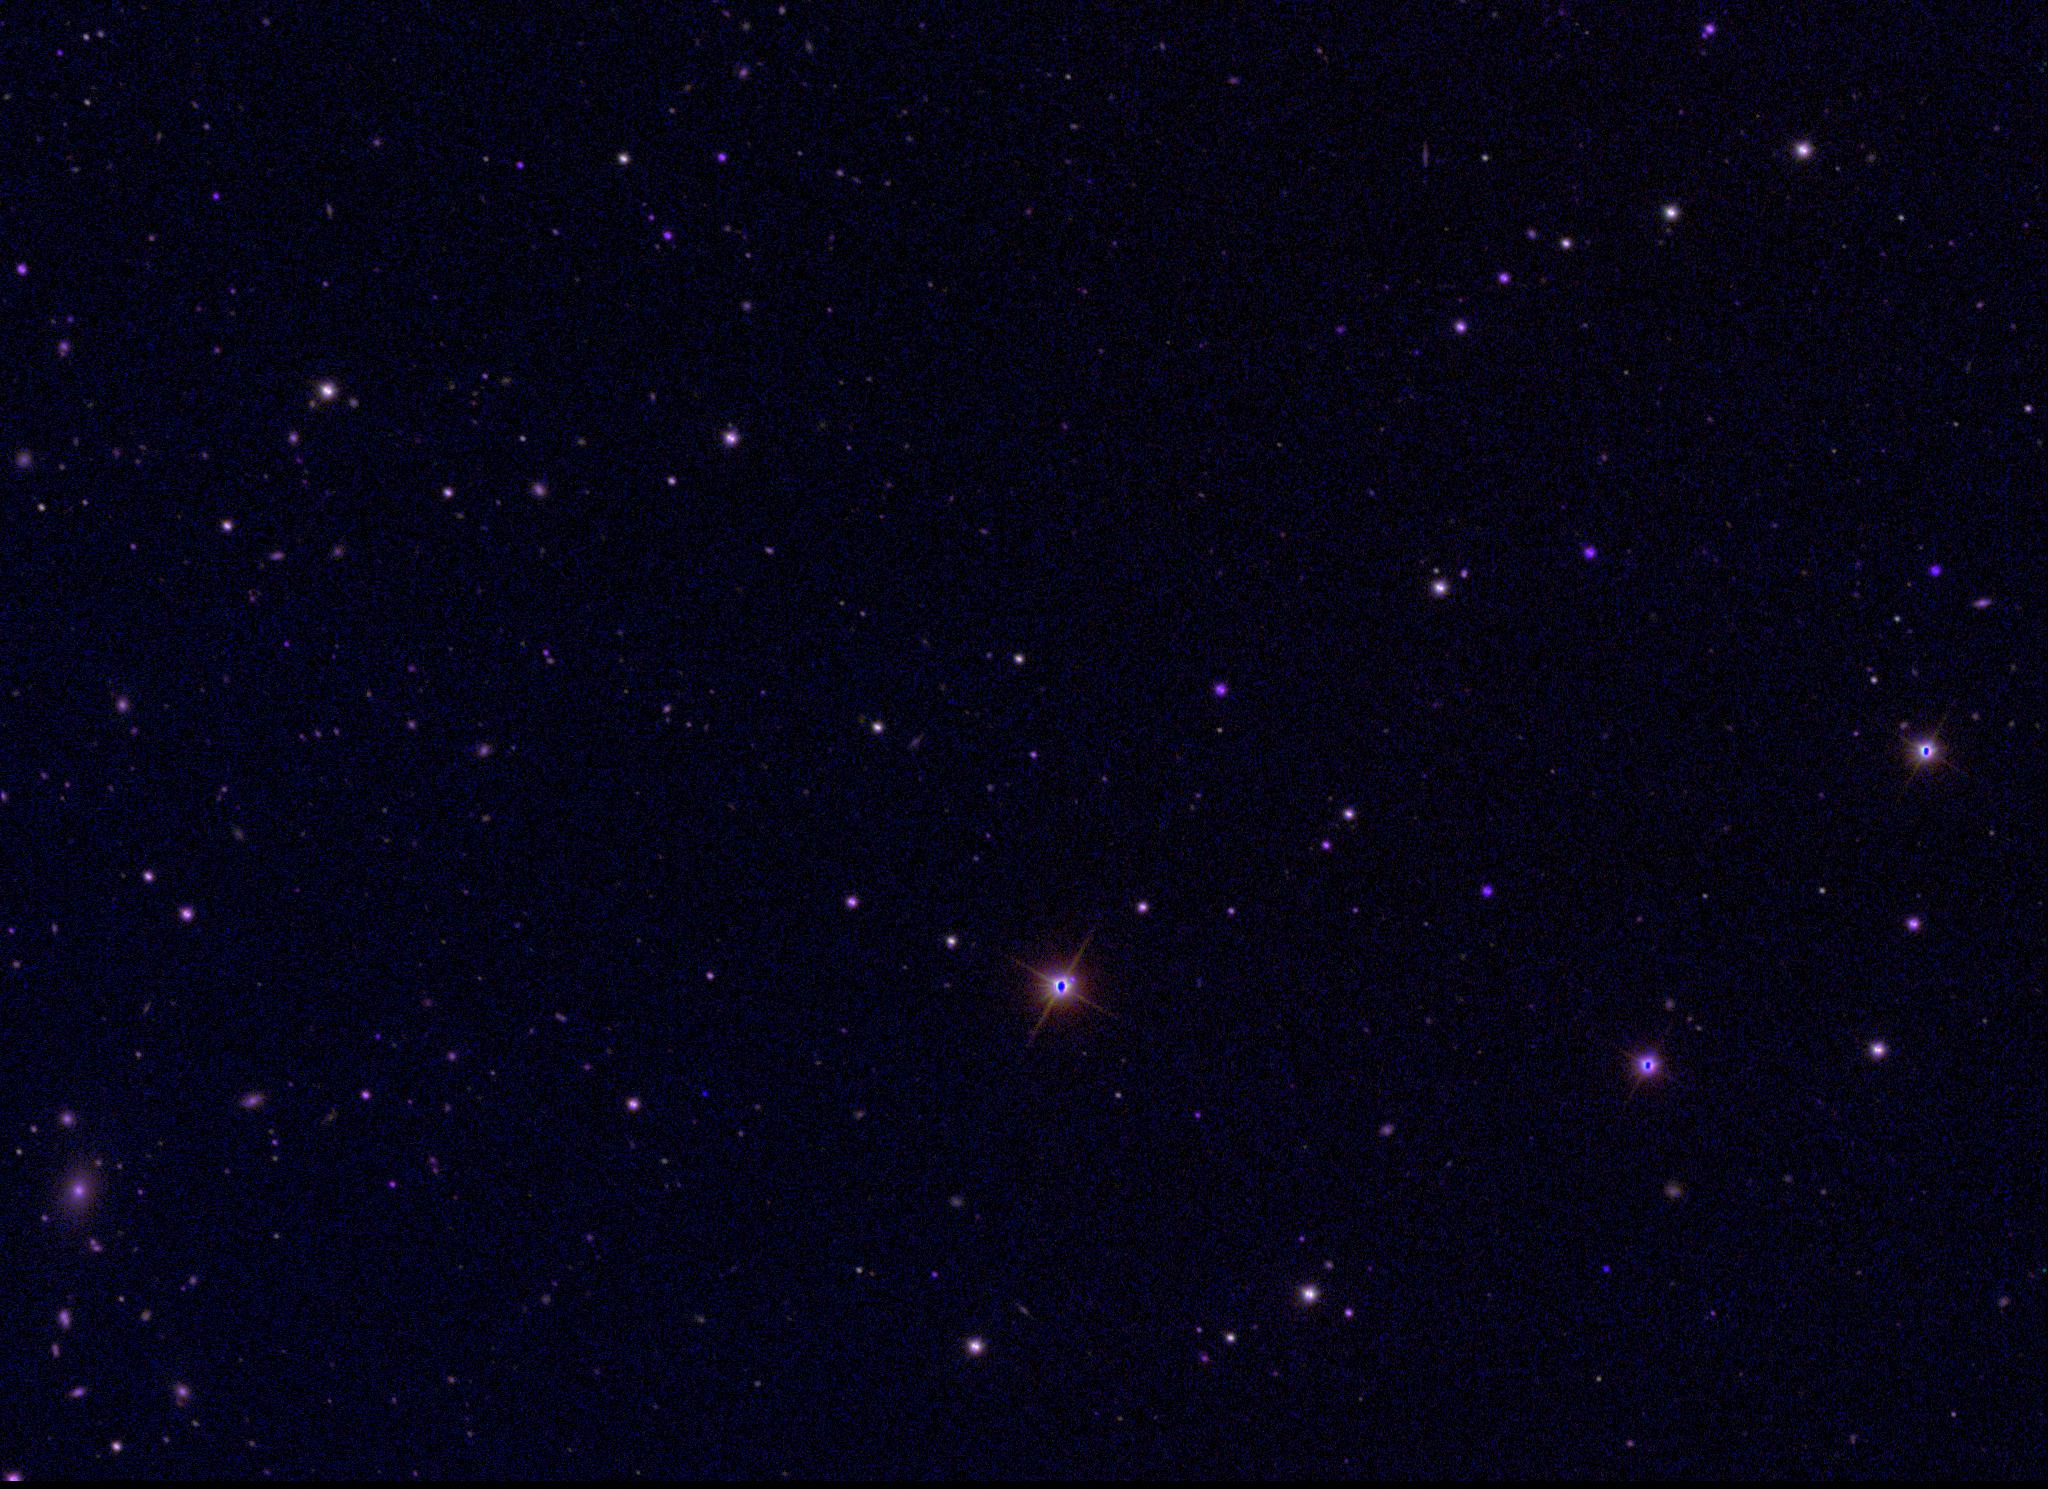L: (698, 1087, 712, 1101)
